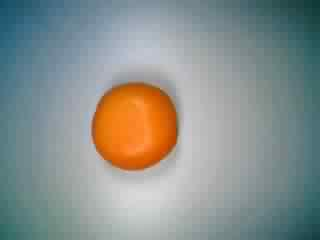orange: (86, 77, 182, 173)
